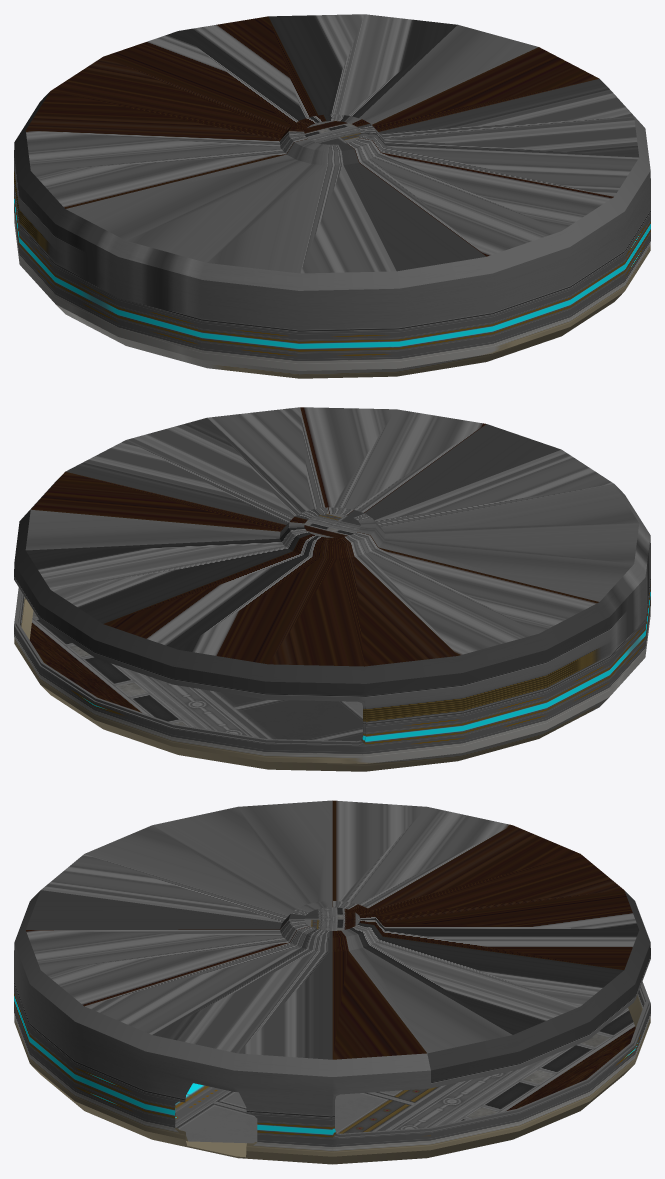
Rendered from display room.obj.
3 views of the same model, one above another, from view 1: azimuth 30°, elevation 25°; view 2: azimuth 150°, elevation 25°; view 3: azimuth 270°, elevation 25° (orthographic).
Parts seen in each view (by area): view 1: group1 siaplay1; view 2: group1 siaplay1, siaplay group1; view 3: group1 siaplay1, siaplay group1.
Part boxes in pixels (x1,y1,x2,y2): group1 siaplay1: [14, 14, 650, 378]; group1 siaplay1: [14, 407, 650, 771]; siaplay group1: [29, 610, 362, 741]; group1 siaplay1: [14, 800, 650, 1164]; siaplay group1: [175, 1008, 635, 1143].
Bounding box in the file's own units: 128 × 27.38 × 128.
Materials: 1 (1 with a texture image).
